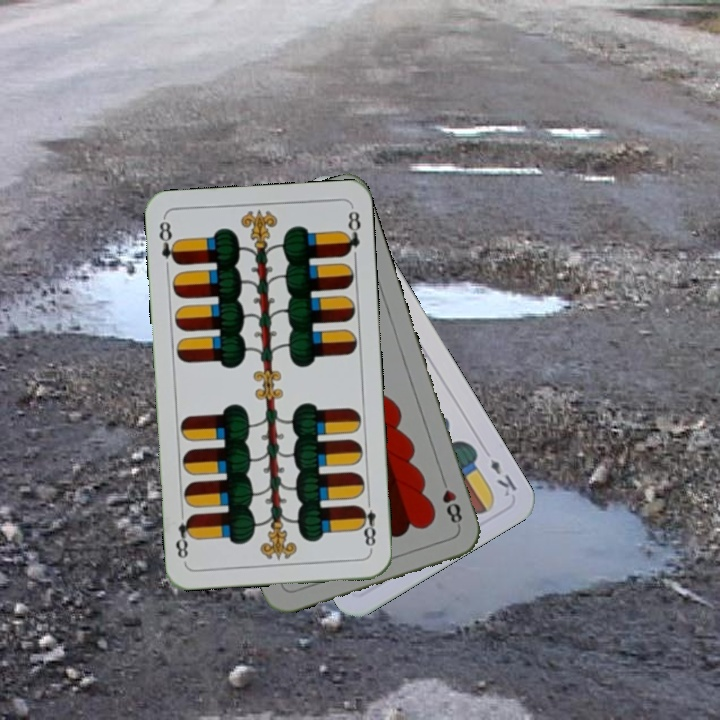E8: (154, 215, 181, 268), (355, 494, 378, 553)
EK: (486, 455, 520, 499)
H8: (437, 472, 465, 530)
